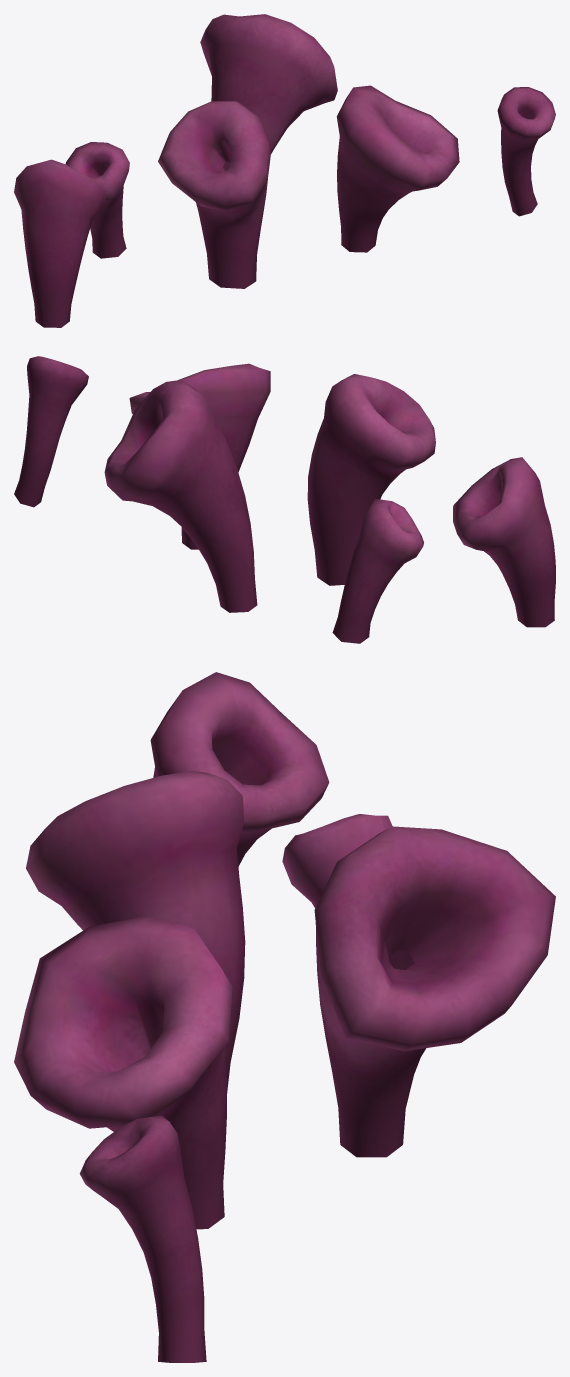
File: plant_19.fbx
The picture shows the model from 3 angles, top to bottom: view 1: azimuth 30°, elevation 25°; view 2: azimuth 150°, elevation 25°; view 3: azimuth 270°, elevation 25°; orthographic projection. The views are drawn at different scales.
Visible parts, largest first — view 1: pipe, pipe1, pipe4, pipe3, pipe2, pipe5; view 2: pipe4, pipe, pipe3, pipe5, pipe2, pipe1; view 3: pipe4, pipe1, pipe, pipe3, pipe2, pipe5.
Boxes of the visible parts, x1=… form: pipe: x1=158, y1=101, x2=270, y2=288; pipe1: x1=336, y1=85, x2=459, y2=252; pipe4: x1=200, y1=14, x2=337, y2=153; pipe3: x1=14, y1=159, x2=106, y2=327; pipe2: x1=497, y1=87, x2=555, y2=216; pipe5: x1=65, y1=142, x2=129, y2=258; pipe4: x1=104, y1=380, x2=257, y2=612; pipe: x1=307, y1=374, x2=435, y2=585; pipe3: x1=453, y1=457, x2=555, y2=627; pipe5: x1=332, y1=498, x2=423, y2=643; pipe2: x1=14, y1=356, x2=88, y2=507; pipe1: x1=129, y1=363, x2=270, y2=549; pipe4: x1=314, y1=826, x2=555, y2=1157; pipe1: x1=14, y1=915, x2=232, y2=1229; pipe: x1=26, y1=771, x2=245, y2=1092; pipe3: x1=150, y1=672, x2=329, y2=866; pipe2: x1=79, y1=1116, x2=206, y2=1362; pipe5: x1=282, y1=814, x2=392, y2=907.
Size of the model in its own units: 4.97 by 1.9 by 2.59.
